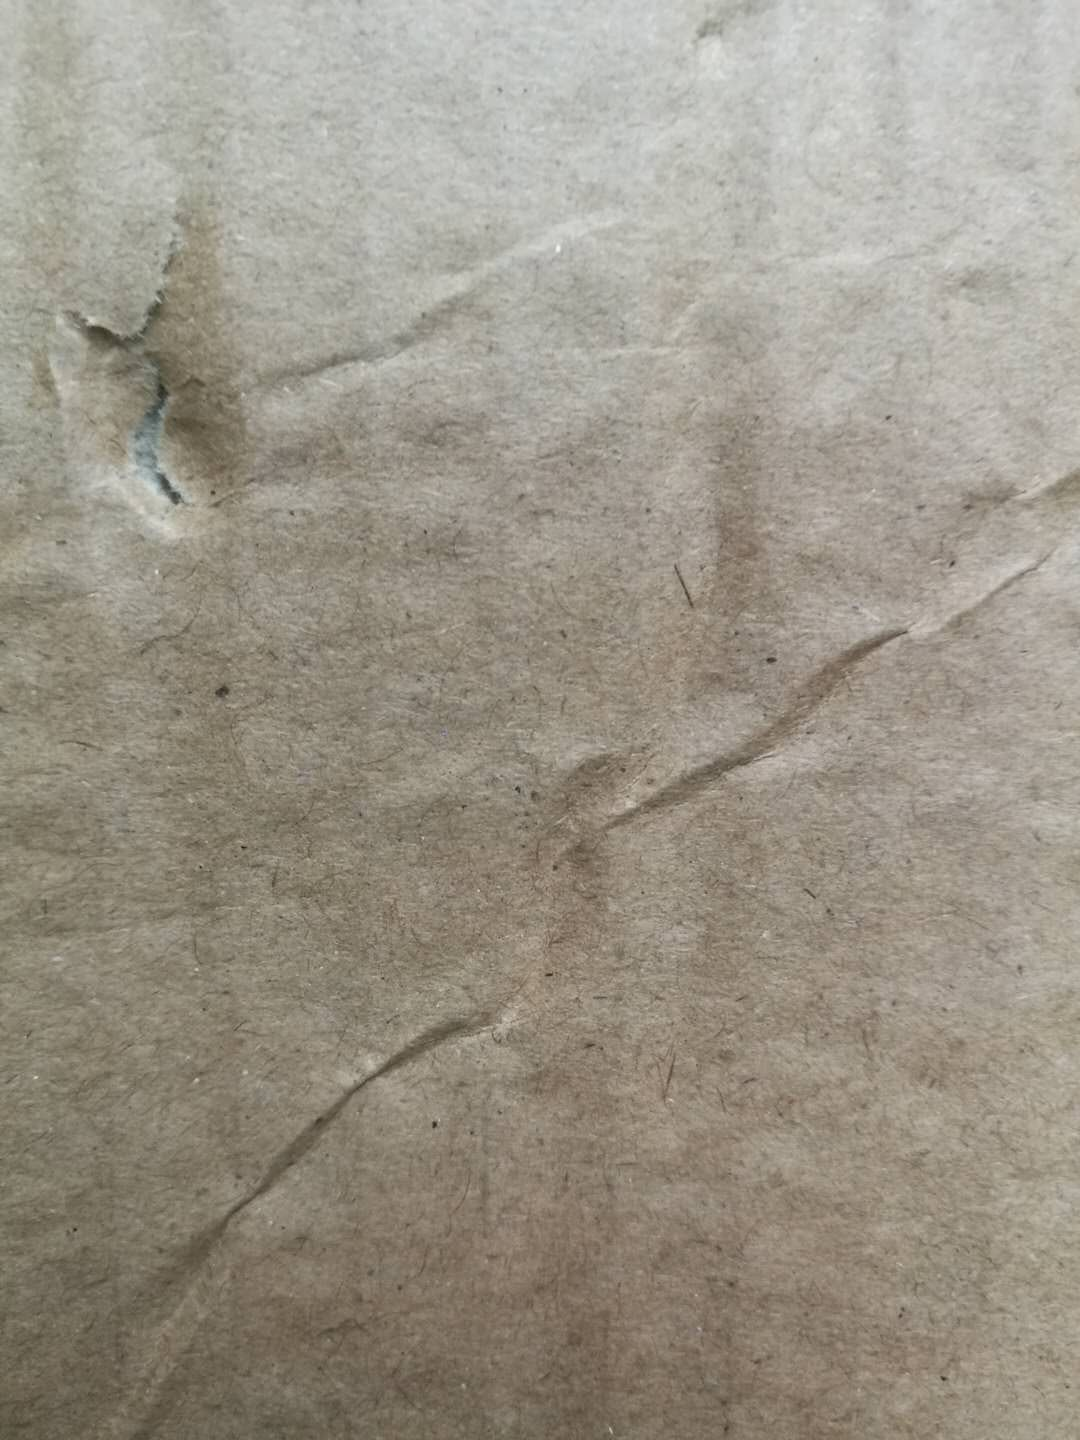defect: (366, 12, 1080, 867), (3, 710, 670, 1440), (19, 183, 326, 622)
